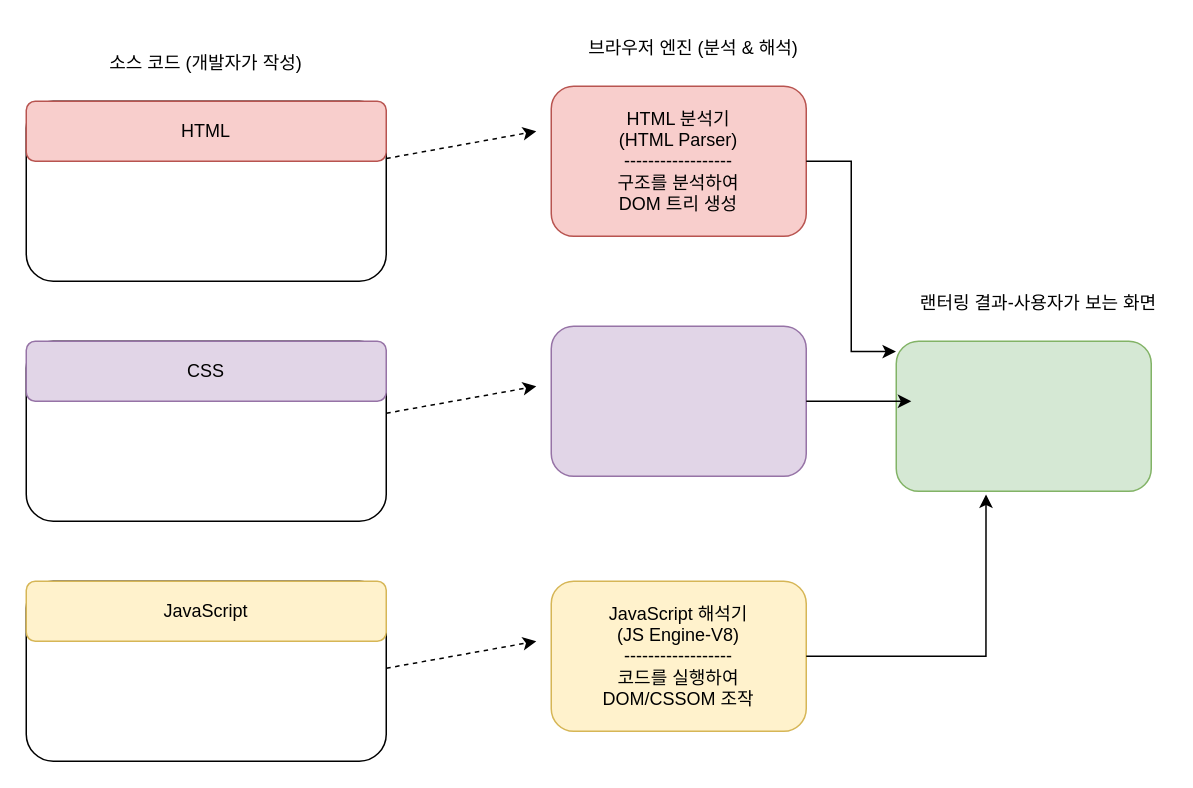
This 1193x788 diagram has some shape labels left out. The centre of each missing label's shape, as x and y in pixels:
"CSS 분석기 (CSS Parser) ------------------ 스타일을 분석하여 CSSOM 생성" goes at point 678,400.
"랜더 트리 Render Tree DOM + CSSOM 결합" goes at point 1023,415.
